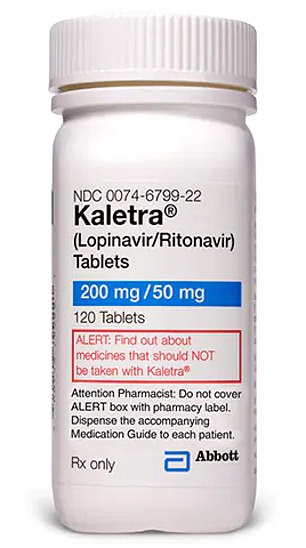Medicine: (41, 9, 274, 537)
